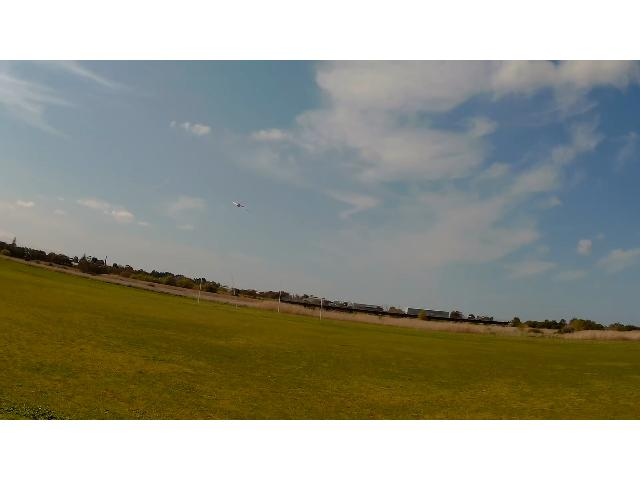Anti-Drone: (233, 200, 253, 212)
